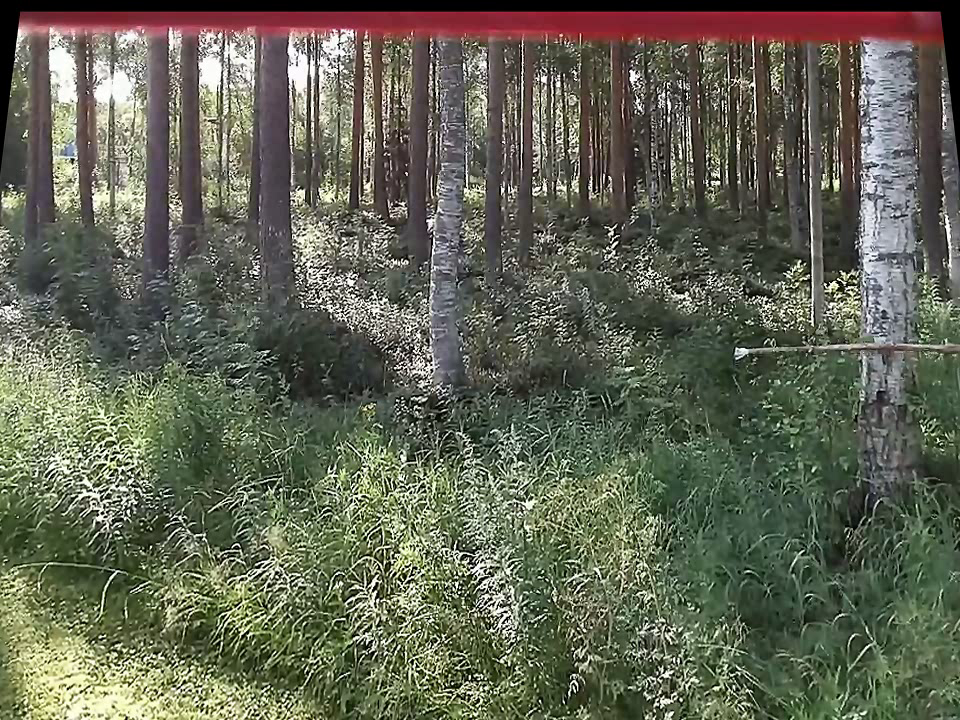branch: (753, 332, 958, 370)
